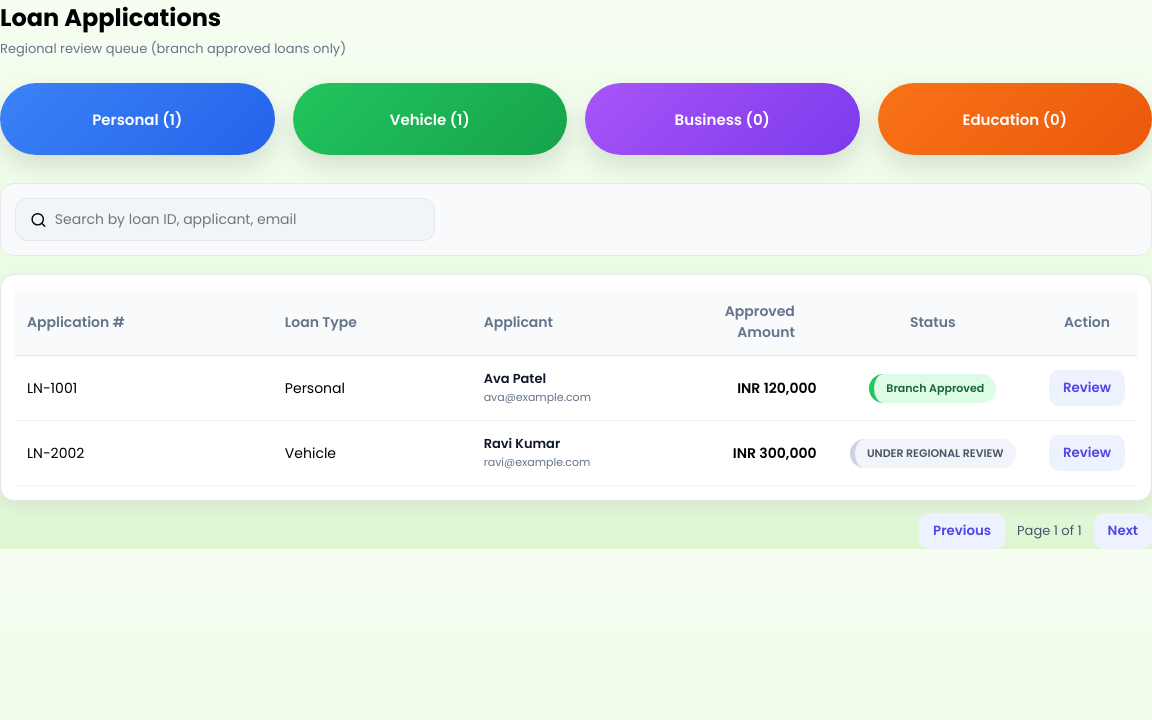
Scenario: RegionalLoanApplications › filters by loan type selection
Check: the text "LN-1001" is shown, box x1=15 y1=356 x2=273 y2=420
Click the text "Vehicle (1)". click: (430, 119)
box: x1=292 y1=83 x2=567 y2=155
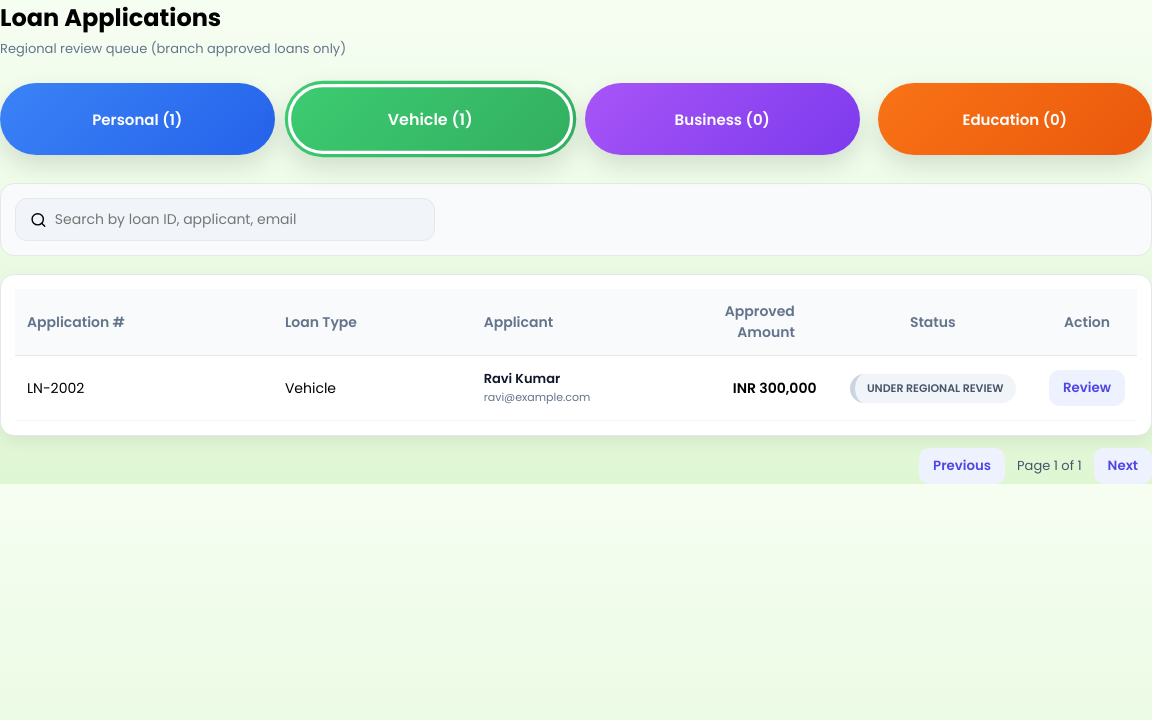
Check: the text "LN-2002" is shown, box x1=15 y1=356 x2=273 y2=420
Check: the text "LN-1001" is gone
